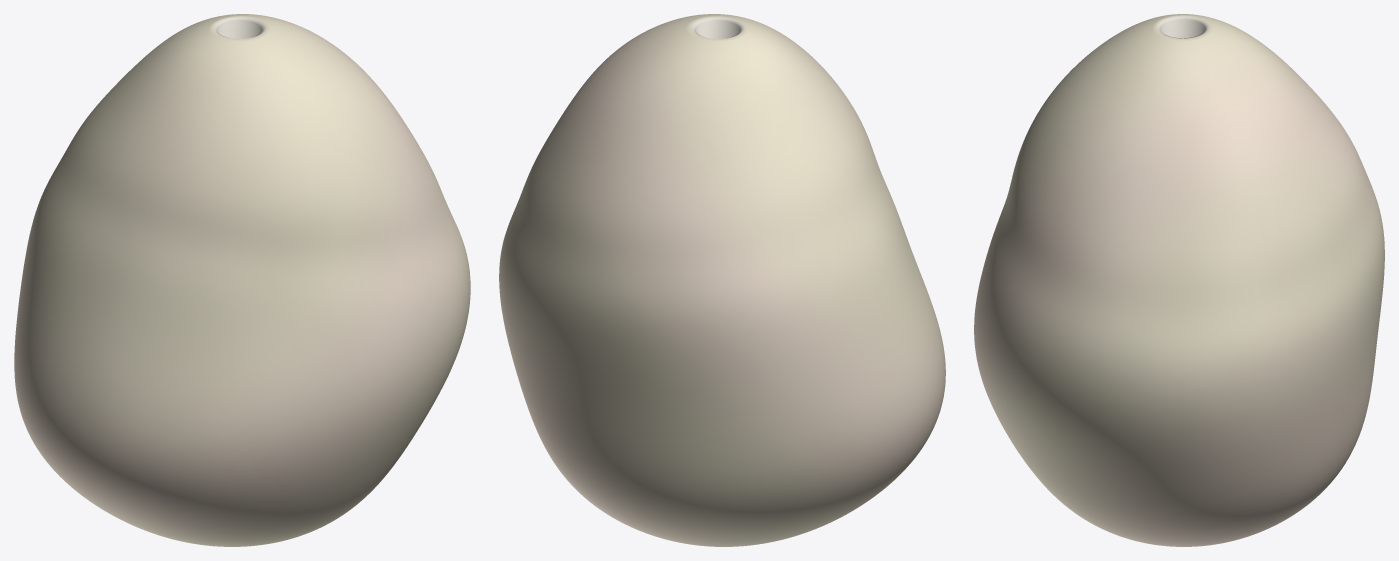
Rendered from pearl-ref-15.glb.
3 renders of one model, left to right at view 1: azimuth 30°, elevation 25°; view 2: azimuth 150°, elevation 25°; view 3: azimuth 270°, elevation 25°, orthographic.
Parts seen in each view (by area): view 1: pearl-ref-15; view 2: pearl-ref-15; view 3: pearl-ref-15.
Part boxes in pixels (x1,y1,x2,y2): pearl-ref-15: (14,14,470,546); pearl-ref-15: (499,14,945,546); pearl-ref-15: (974,14,1384,546).
Size of the model in its own units: 0.00841 by 0.00991 by 0.00741.
2 materials, 1 textured.
